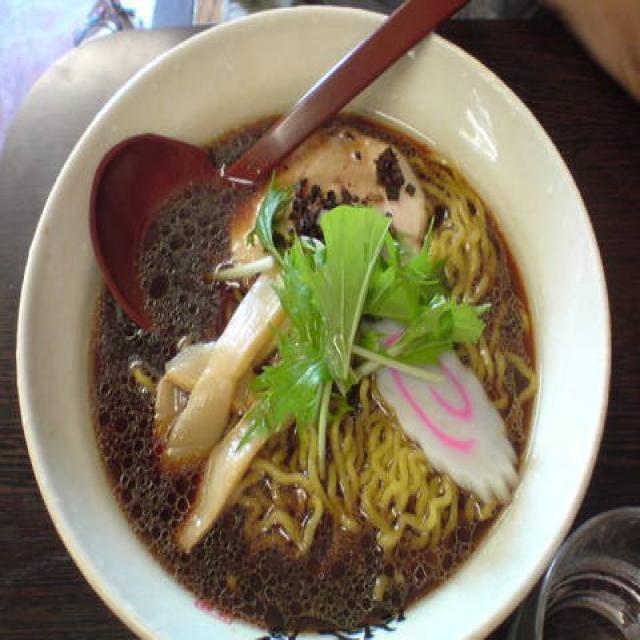面条主食: (12, 2, 580, 640)
